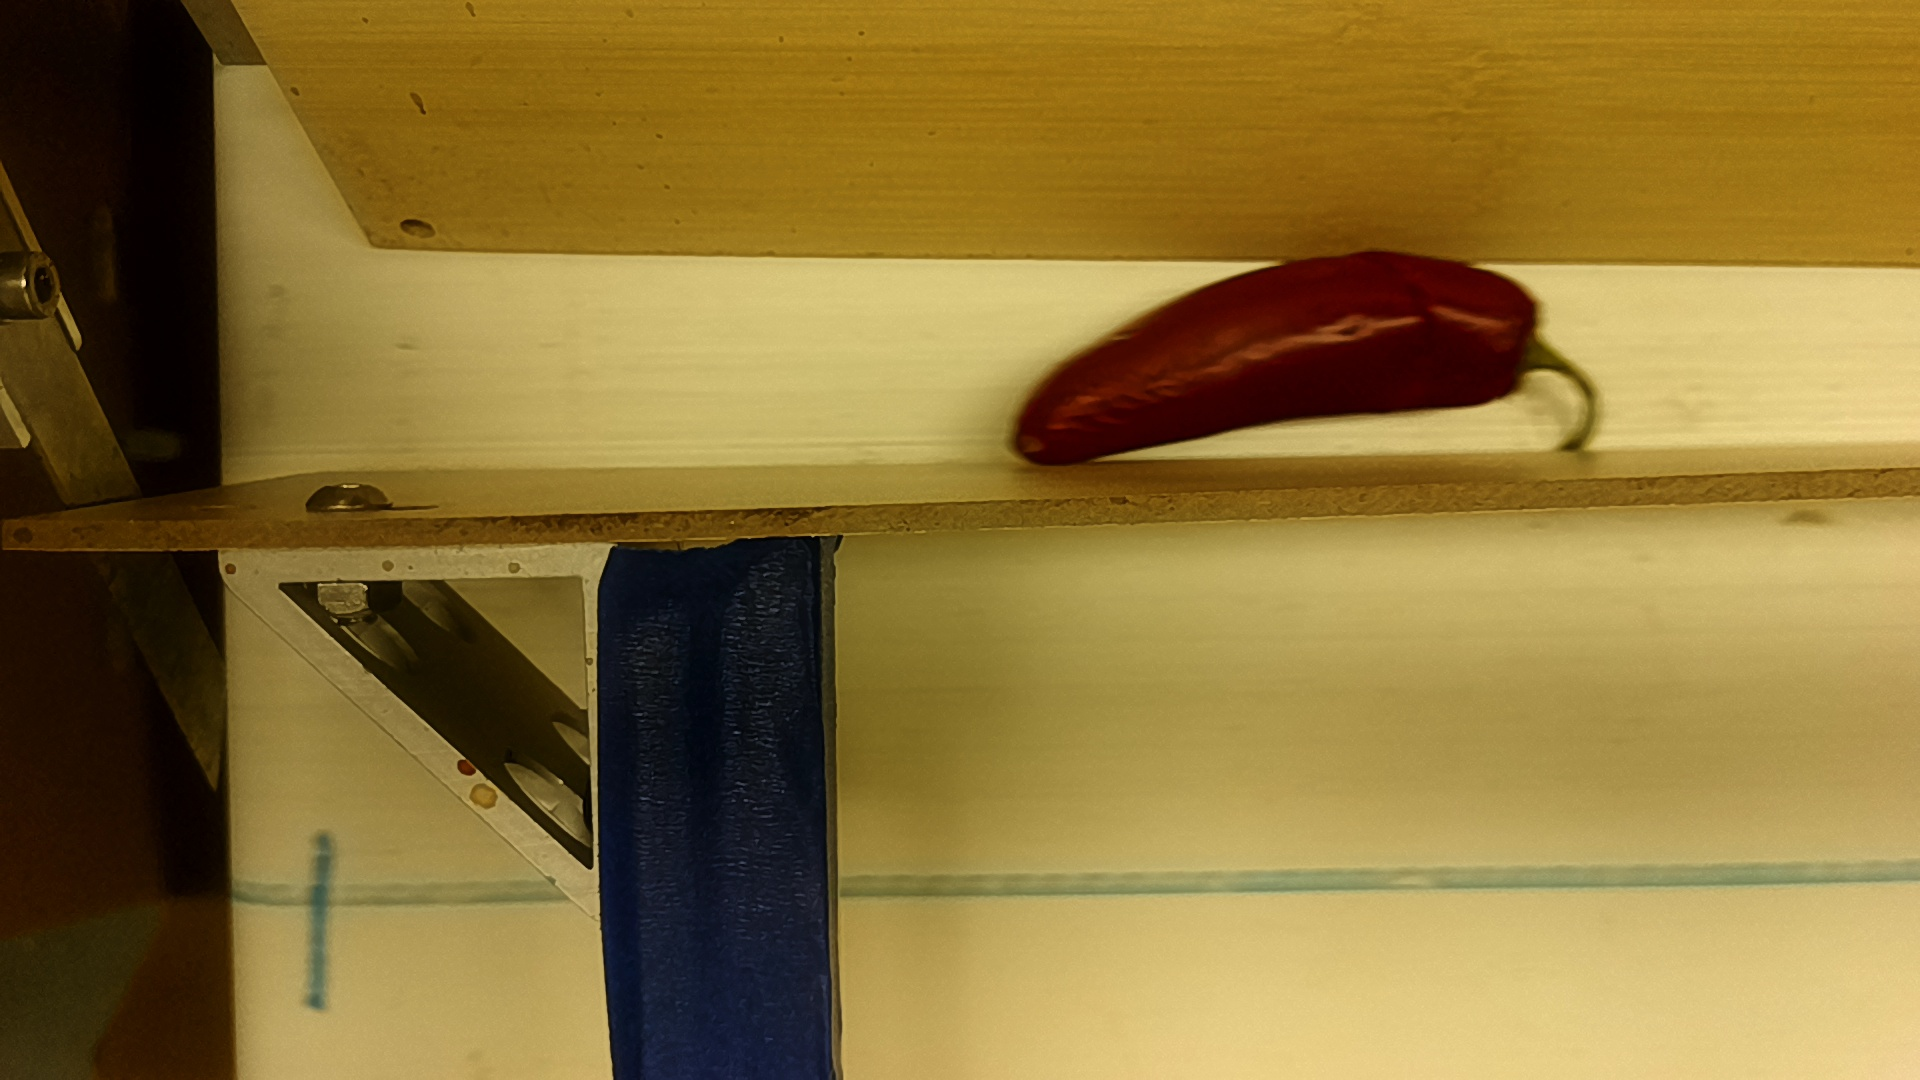Cut Point: (1480, 260, 1551, 410)
